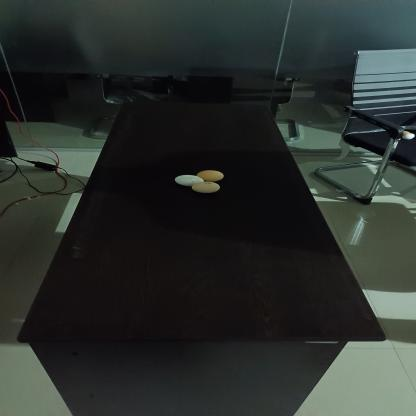egg: (174, 172, 206, 186), (190, 180, 222, 192), (200, 168, 225, 181)
